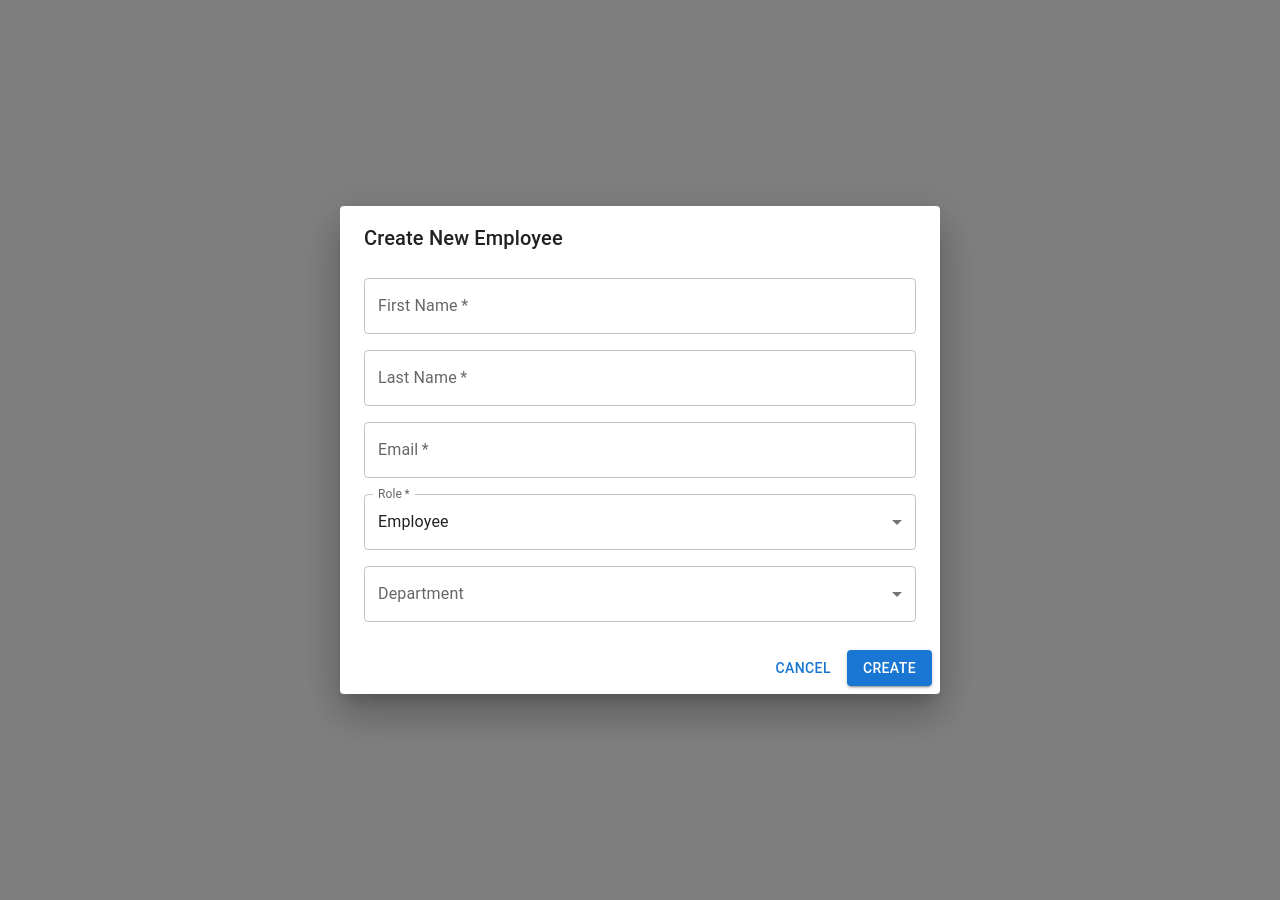
it: CreateEmployeeDialog › shows validation errors when required fields are empty and Create is clicked
The image size is (1280, 900).
What coordinates should you click on to do the following:
click the button "Create"
I would click on:
 (889, 668)
Its box is x1=847 y1=650 x2=932 y2=686.
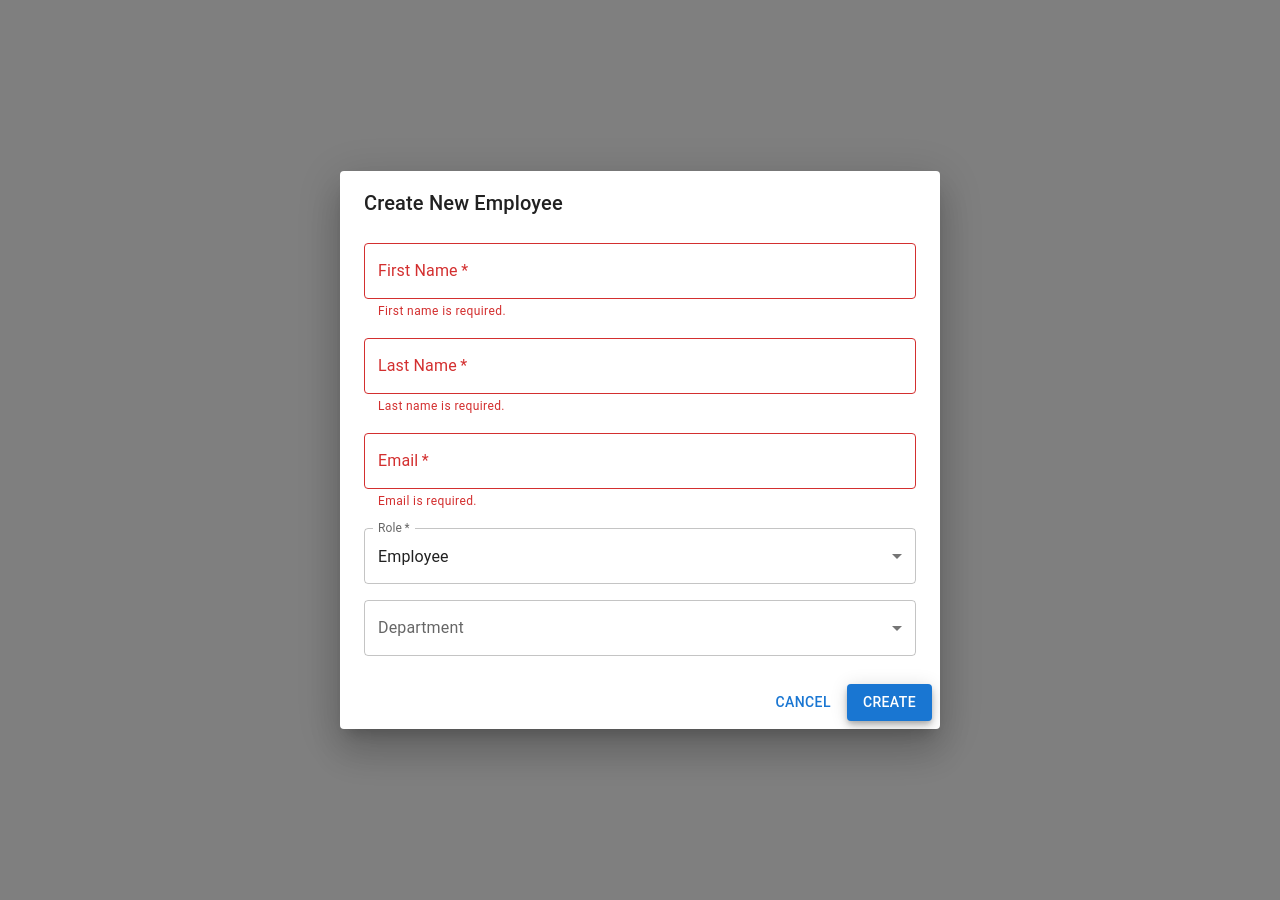
Expected: the text "First name is required." is shown, x1=378 y1=304 x2=506 y2=318
Expected: the text "Last name is required." is shown, x1=378 y1=399 x2=505 y2=413
Expected: the text "Email is required." is shown, x1=378 y1=494 x2=477 y2=508
